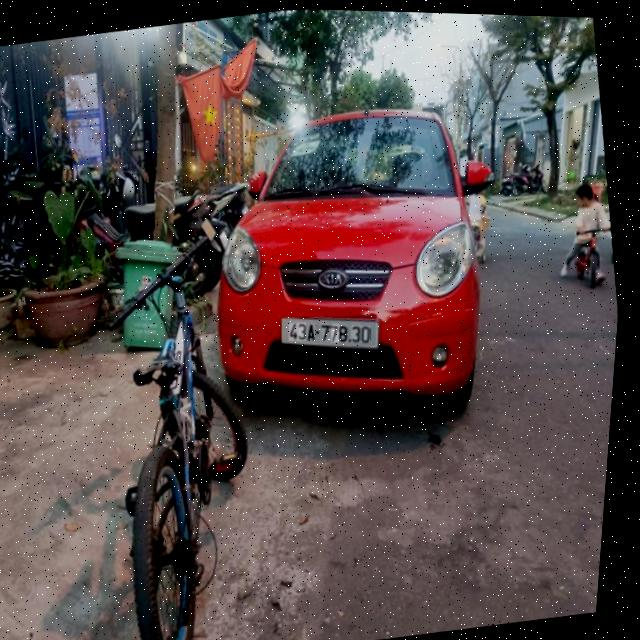car: (170, 80, 525, 439)
motorcycle: (67, 268, 295, 640), (559, 222, 618, 298)
plate: (274, 300, 386, 366)
